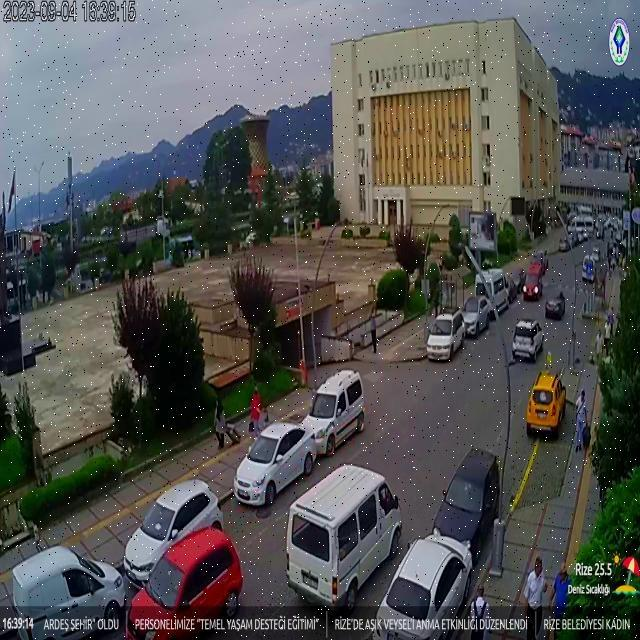Car: (122, 478, 223, 586), (372, 533, 472, 637), (431, 448, 501, 562), (232, 422, 316, 504), (302, 369, 364, 456), (526, 371, 566, 438), (425, 308, 466, 361), (509, 315, 551, 357), (460, 295, 493, 336), (522, 260, 547, 300), (545, 291, 566, 320), (531, 250, 549, 274), (582, 256, 596, 284), (504, 274, 518, 302), (558, 238, 570, 252), (590, 247, 600, 261)
Van: (283, 464, 398, 611), (11, 546, 128, 637)
